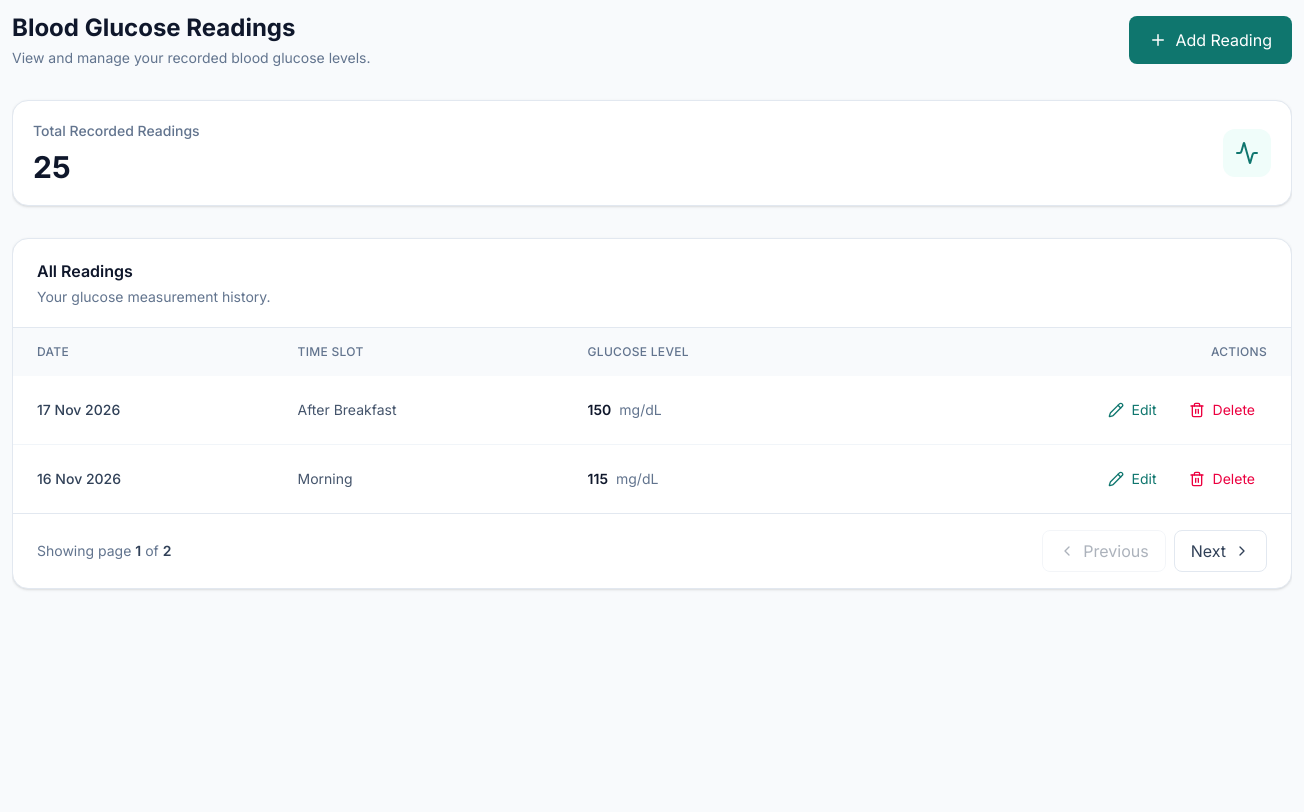
Test case: ReadingsPage › loads the next page when Next is clicked
Expected: the text "150" is shown, [588, 401, 611, 418]
Click the button "Next": {"x": 1220, "y": 551} [1174, 530, 1267, 572]
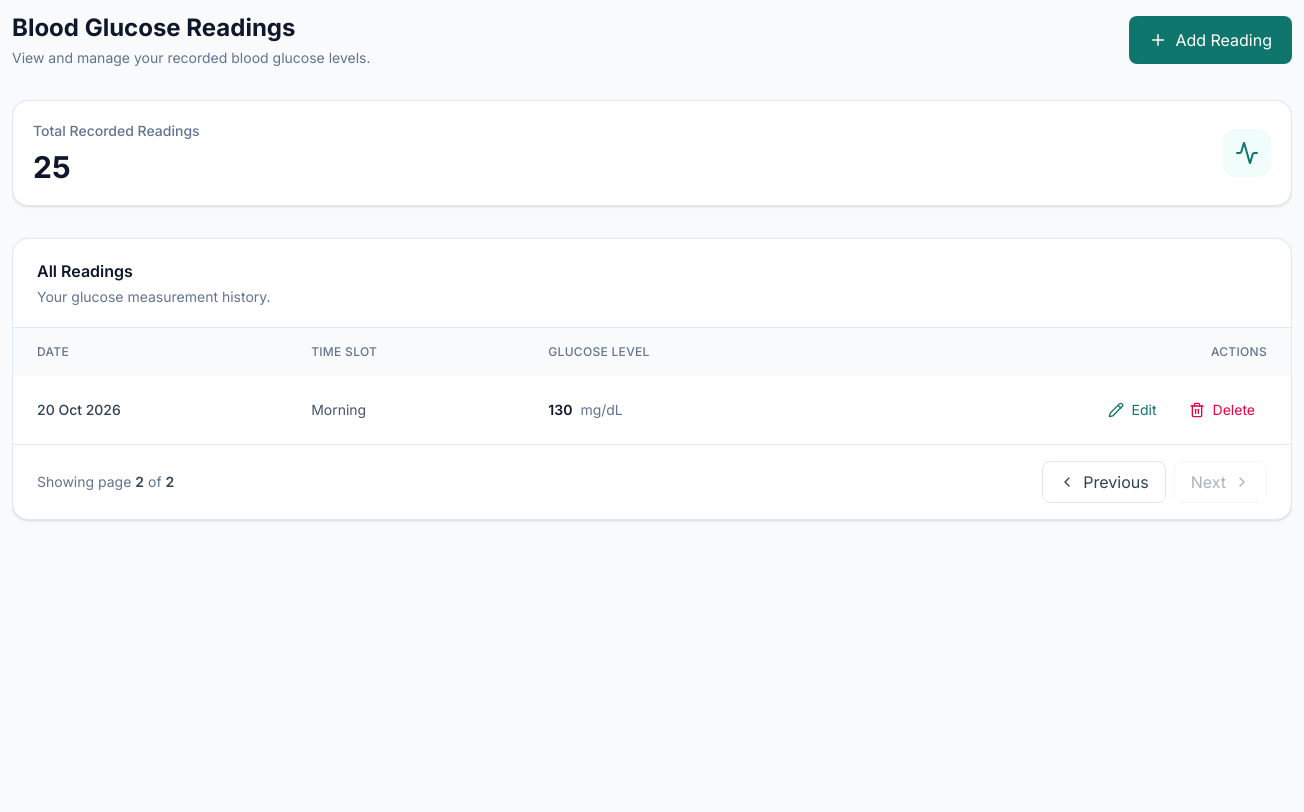
Expected: the text "Showing page 2 of 2" is shown, [37, 472, 174, 492]
Now the text "130" is shown, box [548, 401, 572, 418]
Now the button "Next" is disabled, box [1174, 461, 1267, 503]
